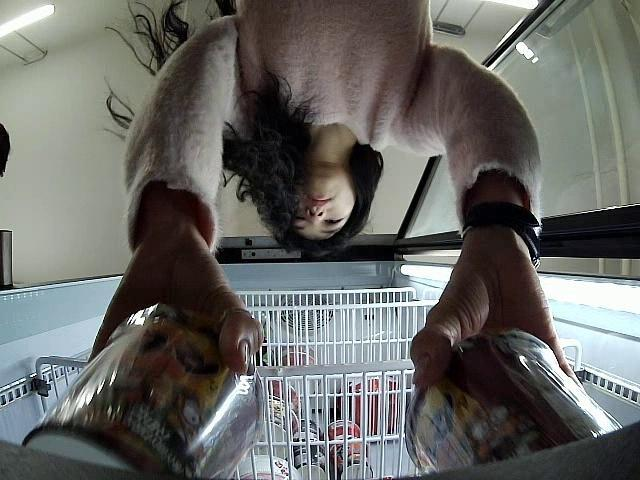06_nuguri_S: (18, 311, 266, 480), (402, 328, 621, 480)
